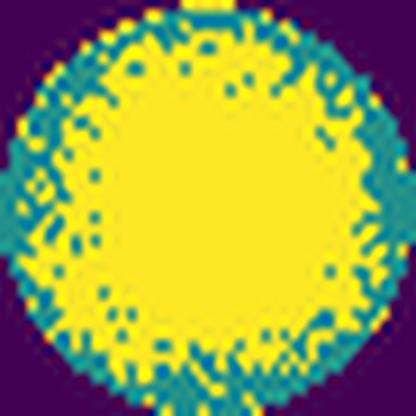Center: (52, 26, 372, 368)
